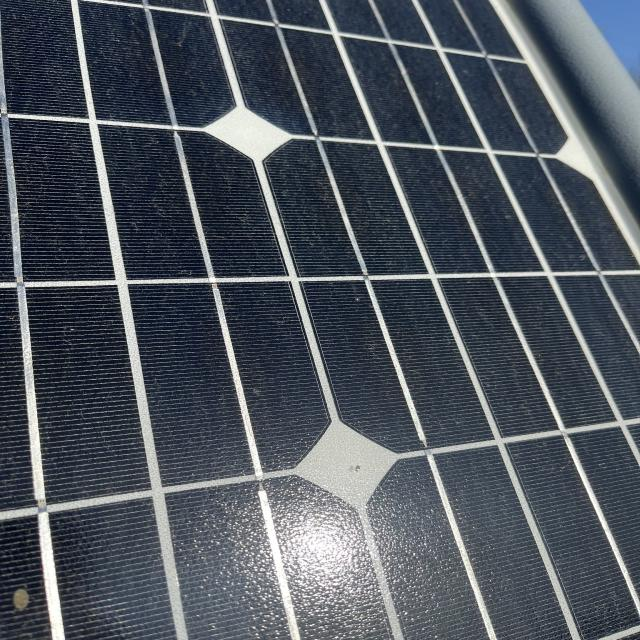clean-solar-panel: (2, 1, 638, 640)
